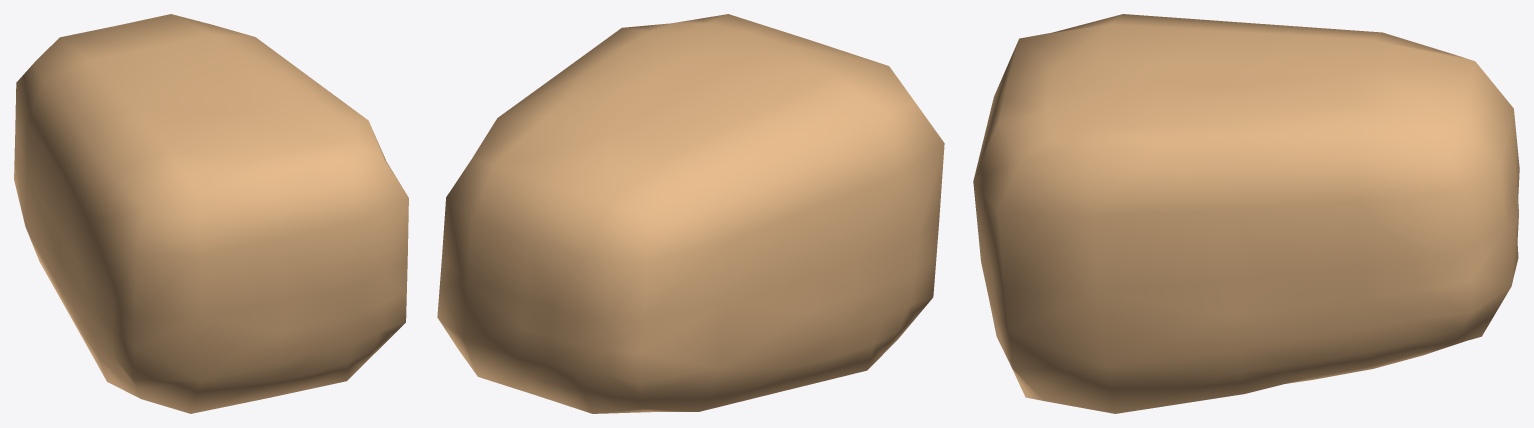
Rendered from index_02_r.dae.
The picture shows the model from 3 angles, left to right: view 1: azimuth 30°, elevation 25°; view 2: azimuth 150°, elevation 25°; view 3: azimuth 270°, elevation 25°; orthographic projection. The views are drawn at different scales.
Visible parts, largest first — view 1: skin_geo_index_02_r; view 2: skin_geo_index_02_r; view 3: skin_geo_index_02_r.
Part boxes in pixels (x1,y1,x2,y2): skin_geo_index_02_r: (14,14,408,413); skin_geo_index_02_r: (437,14,944,413); skin_geo_index_02_r: (973,14,1519,413).
Size of the model in its own units: 0.0206 by 0.0289 by 0.0177.
